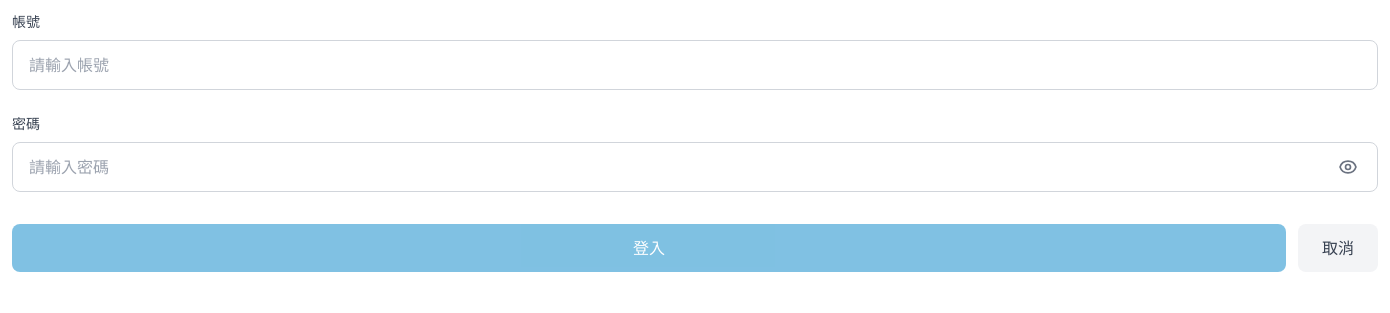
LoginForm › 應該顯示驗證錯誤訊息（密碼為空）
Type "testuser" into the field labelled "帳號". click: (695, 65)
box: [12,40,1378,90]
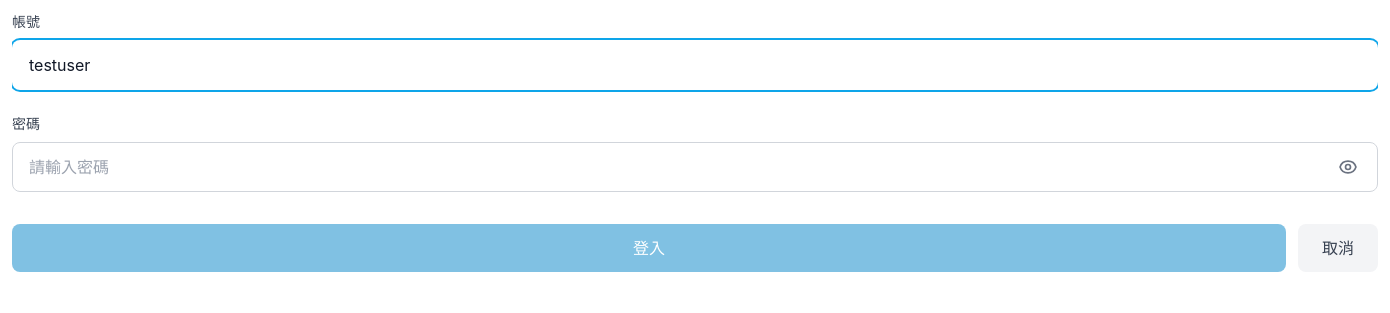
Check: the button "登入" is disabled, box [12,224,1286,272]
Click the password field labelled "密碼". click: click(695, 167)
box: [12,142,1378,192]
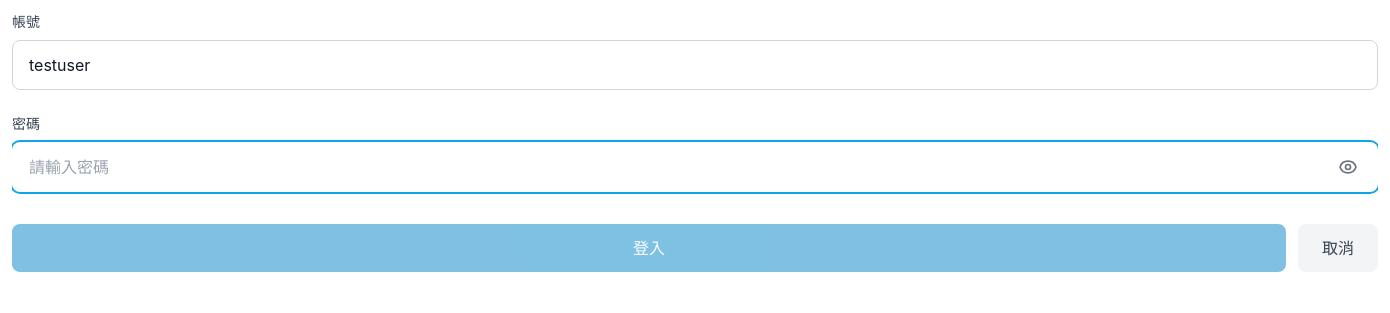
Press Tab
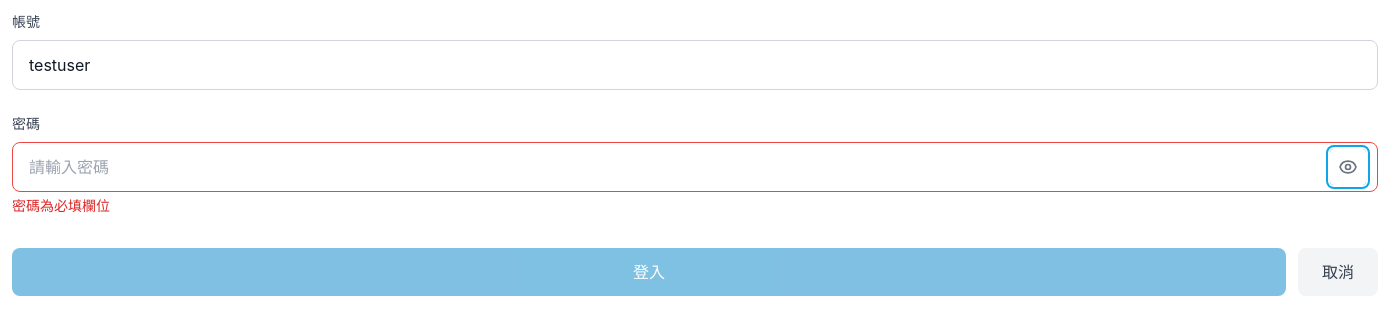
Check: the text "密碼為必填欄位" is shown, box [12,197,110,214]
